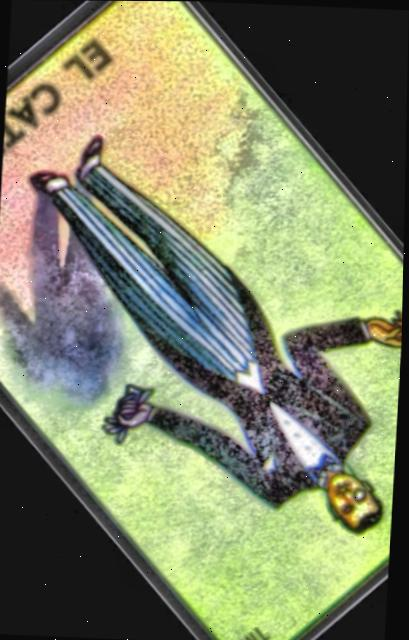El Catrin: (0, 1, 404, 640)
